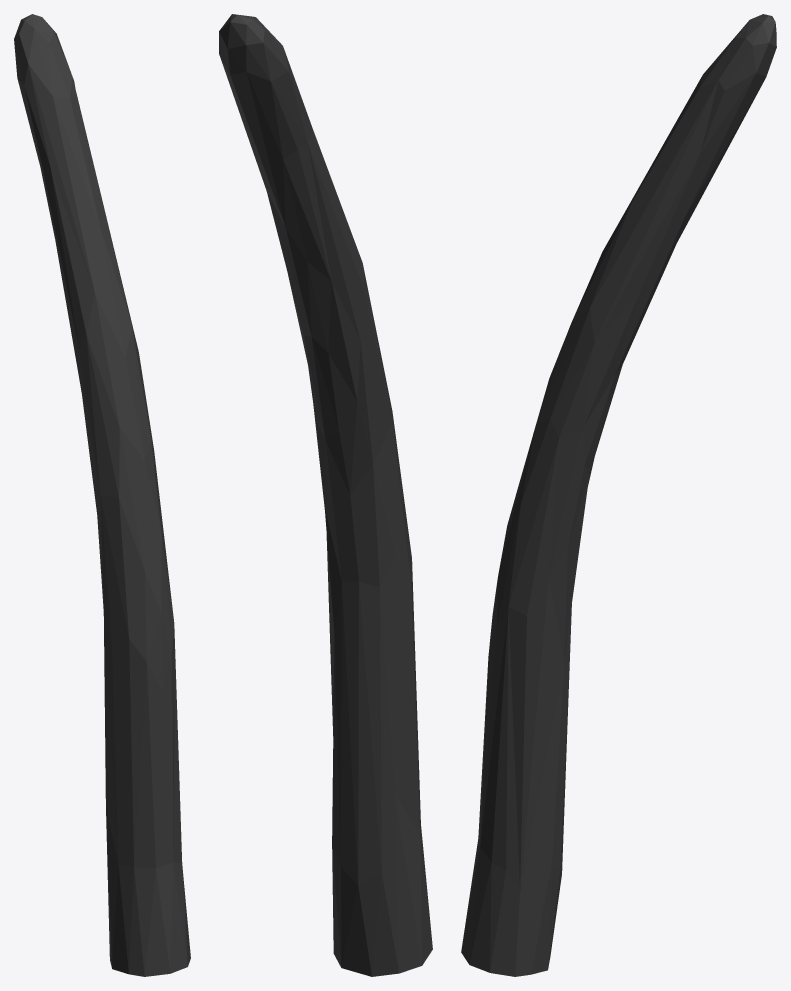
File: details_tail_overlay.glb
3 renders of one model, left to right at view 1: azimuth 30°, elevation 25°; view 2: azimuth 150°, elevation 25°; view 3: azimuth 270°, elevation 25°, orthographic. The views are drawn at different scales.
Parts seen in each view (by area): view 1: details_tail_overlay; view 2: details_tail_overlay; view 3: details_tail_overlay.
Boxes of the visible parts, x1,y1,x2,y2 form: details_tail_overlay: (14, 14, 190, 976); details_tail_overlay: (219, 14, 432, 976); details_tail_overlay: (461, 14, 776, 976).
Bounding box in the file's own units: 0.000604 × 0.00709 × 0.00214.
1 material, 1 textured.
